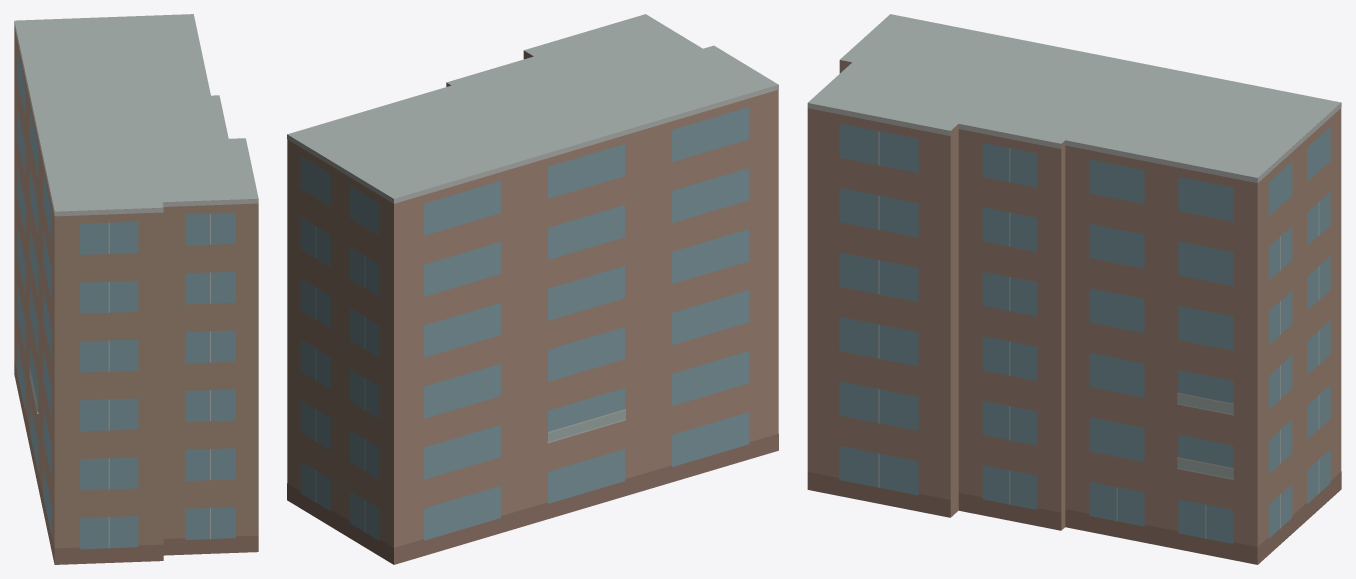
Rendered from survey-upis-32660718.glb.
3 renders of one model, left to right at view 1: azimuth 30°, elevation 25°; view 2: azimuth 150°, elevation 25°; view 3: azimuth 270°, elevation 25°, orthographic. The views are drawn at different scales.
Visible parts, largest first — view 1: survey-upis-32660718.tmp; view 2: survey-upis-32660718.tmp; view 3: survey-upis-32660718.tmp.
Part boxes in pixels (x1,y1,x2,y2): survey-upis-32660718.tmp: (14, 14, 258, 564); survey-upis-32660718.tmp: (287, 14, 778, 564); survey-upis-32660718.tmp: (807, 14, 1341, 564).
Bounding box in the file's own units: 16.46 × 18.1 × 22.65.
